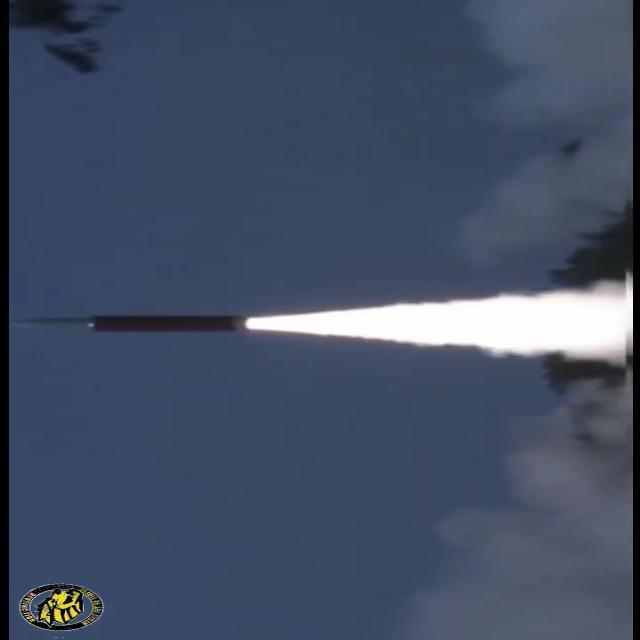missile: (10, 310, 249, 338)
